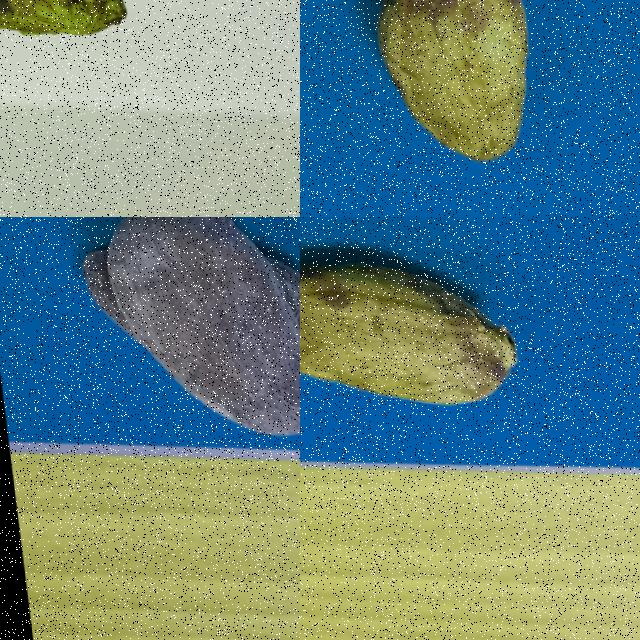Agglomerated_cocoabeans: (0, 217, 299, 463)
Fine_cocoabeans: (300, 0, 619, 216), (300, 217, 575, 448)
Flat_cocoabeans: (0, 0, 216, 93)
